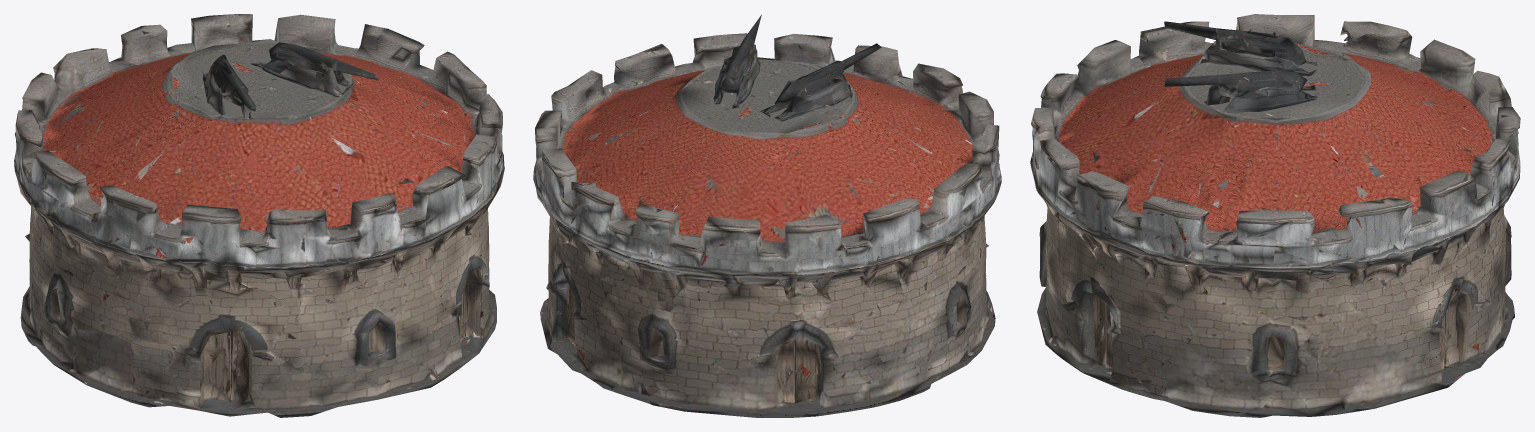
Rendered from wachturm.glb.
The picture shows the model from 3 angles, left to right: view 1: azimuth 30°, elevation 25°; view 2: azimuth 150°, elevation 25°; view 3: azimuth 270°, elevation 25°; orthographic projection. The views are drawn at different scales.
Size of the model in its own units: 1.9 by 1.15 by 1.9.
1 material, 1 textured.
